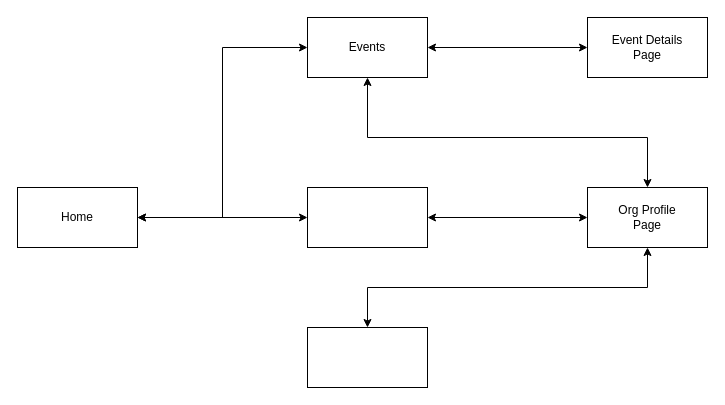
Image size: 725x405. Some labels were removed from this diagram. The centre of each missing label's shape, as x and y in pixels:
"Forums" belongs at [367,357].
"Organisations" belongs at [367,217].
